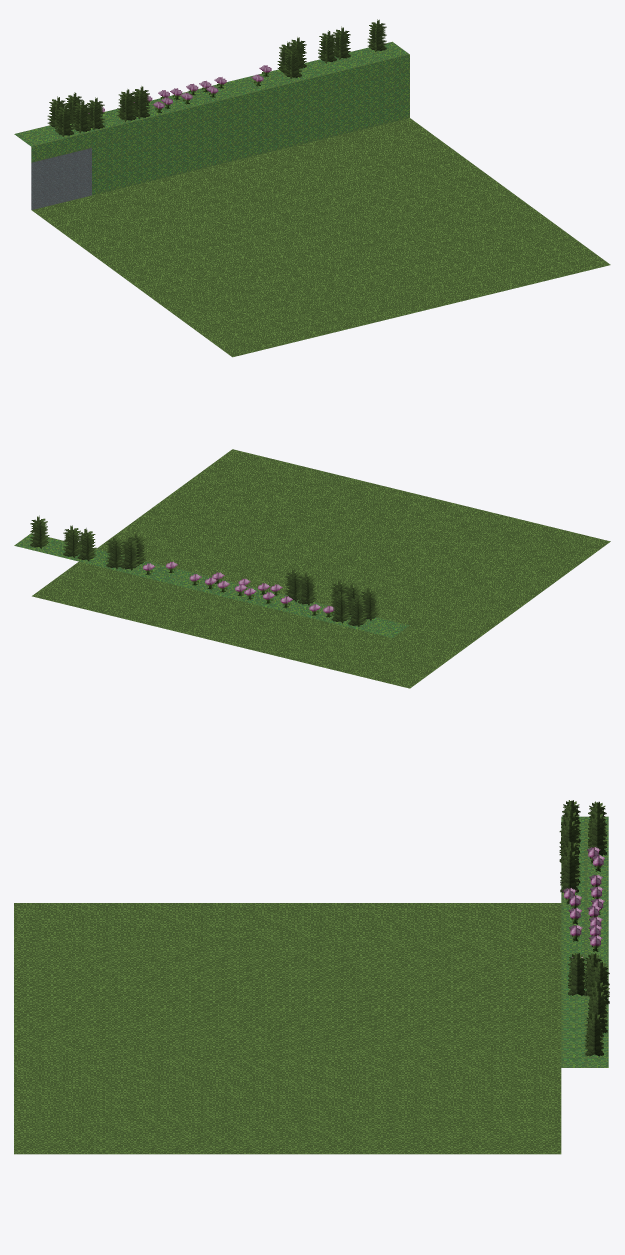
Rendered from chunk325-0-lvl-1-transformed.glb.
The picture shows the model from 3 angles, top to bottom: view 1: azimuth 30°, elevation 25°; view 2: azimuth 150°, elevation 25°; view 3: azimuth 270°, elevation 25°; orthographic projection. The views are drawn at different scales.
Parts seen in each view (by area): view 1: Grass_Block, Moss_Block, Large_Fern, Cyan_Terracotta, Allium; view 2: Grass_Block, Large_Fern, Moss_Block, Allium; view 3: Grass_Block, Moss_Block, Large_Fern, Allium.
Part boxes in pixels (x1,y1,x2,y2): Grass_Block: (32, 118, 610, 357); Moss_Block: (14, 41, 409, 195); Large_Fern: (47, 19, 386, 136); Cyan_Terracotta: (31, 148, 91, 209); Allium: (88, 65, 271, 116); Grass_Block: (32, 449, 610, 688); Large_Fern: (30, 515, 378, 626); Moss_Block: (14, 533, 409, 637); Allium: (143, 561, 334, 617); Grass_Block: (14, 903, 561, 1154); Moss_Block: (561, 816, 608, 1067); Large_Fern: (559, 800, 609, 1056); Allium: (562, 847, 604, 957).
Size of the model in its own units: 25 by 10 by 25.09.
7 materials, 7 textured.
